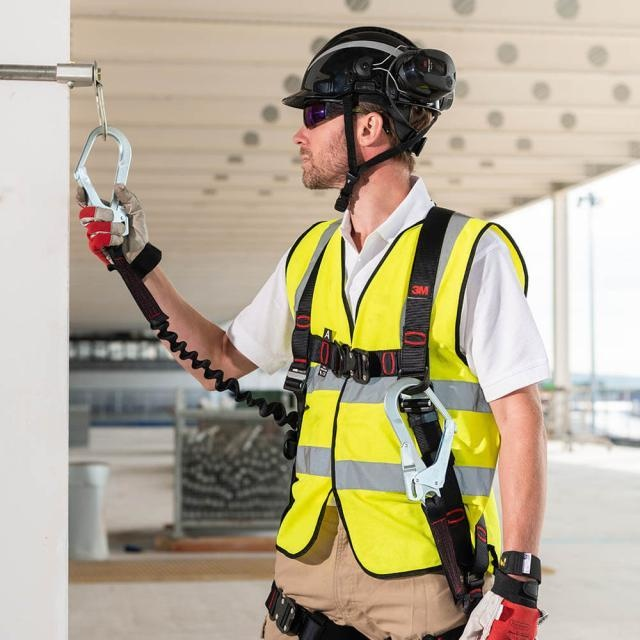Arnes_seguridad: (262, 205, 502, 640)
